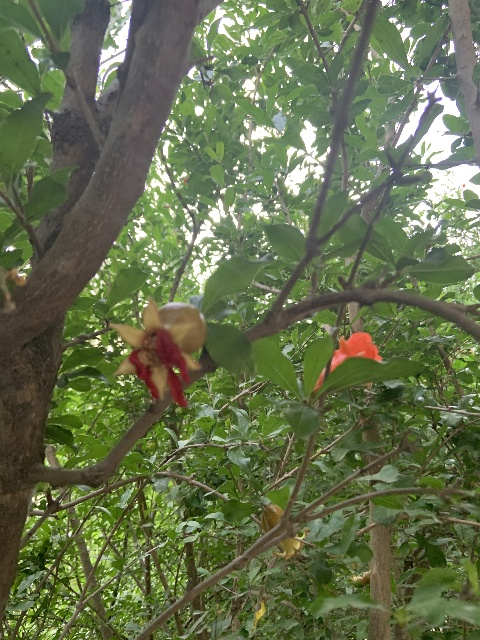early-fruit: (109, 297, 207, 407), (262, 504, 309, 560), (350, 573, 363, 588), (362, 568, 370, 584)
flower: (313, 331, 382, 391)
